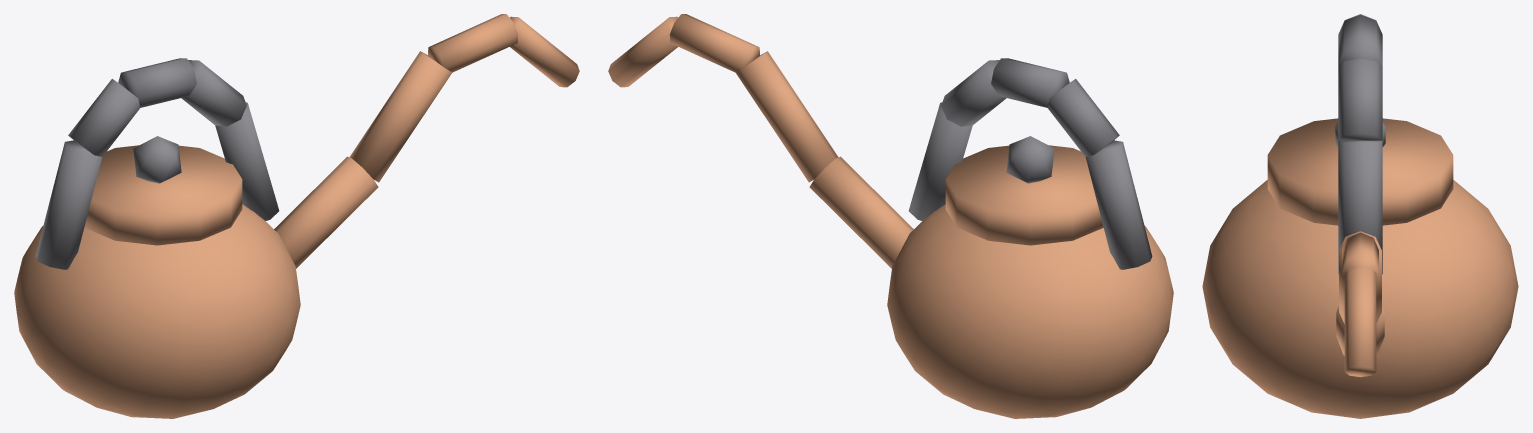
File: kettle_hand.glb
3 views of the same model, side by side, from view 1: azimuth 30°, elevation 25°; view 2: azimuth 150°, elevation 25°; view 3: azimuth 270°, elevation 25° (orthographic). The views are drawn at different scales.
Visible parts, largest first — view 1: kettle_hand; view 2: kettle_hand; view 3: kettle_hand.
Boxes of the visible parts, x1=… form: kettle_hand: x1=14, y1=14, x2=579, y2=418; kettle_hand: x1=608, y1=14, x2=1173, y2=418; kettle_hand: x1=1202, y1=14, x2=1518, y2=418.
Size of the model in its own units: 0.371 by 0.22 by 0.17.
